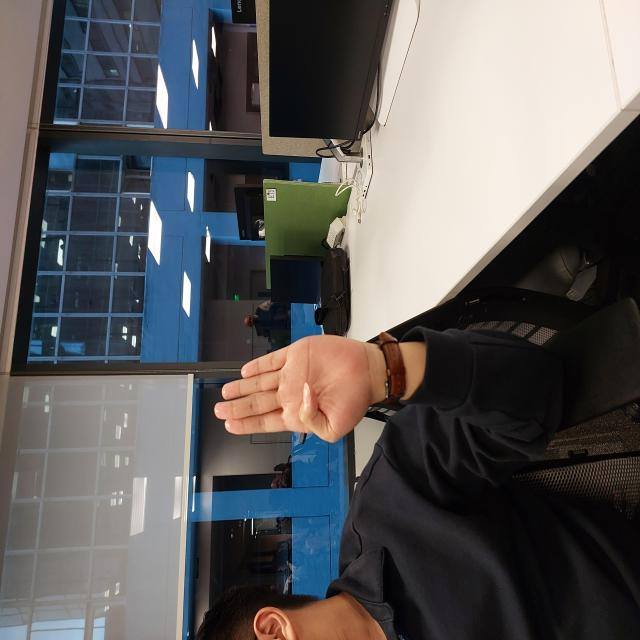B: (196, 213, 306, 366)
